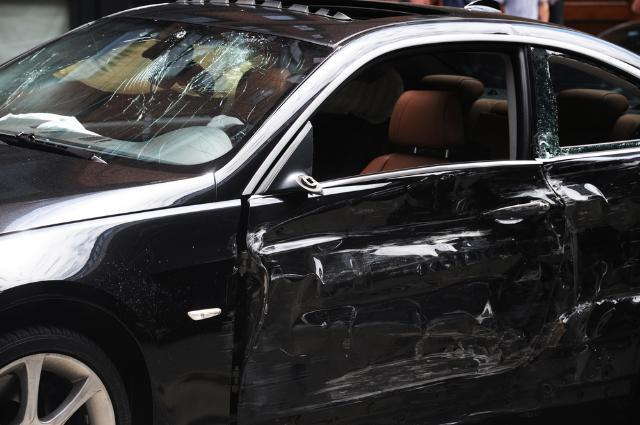dent: (252, 167, 581, 411)
glass shatter: (0, 16, 335, 171)
